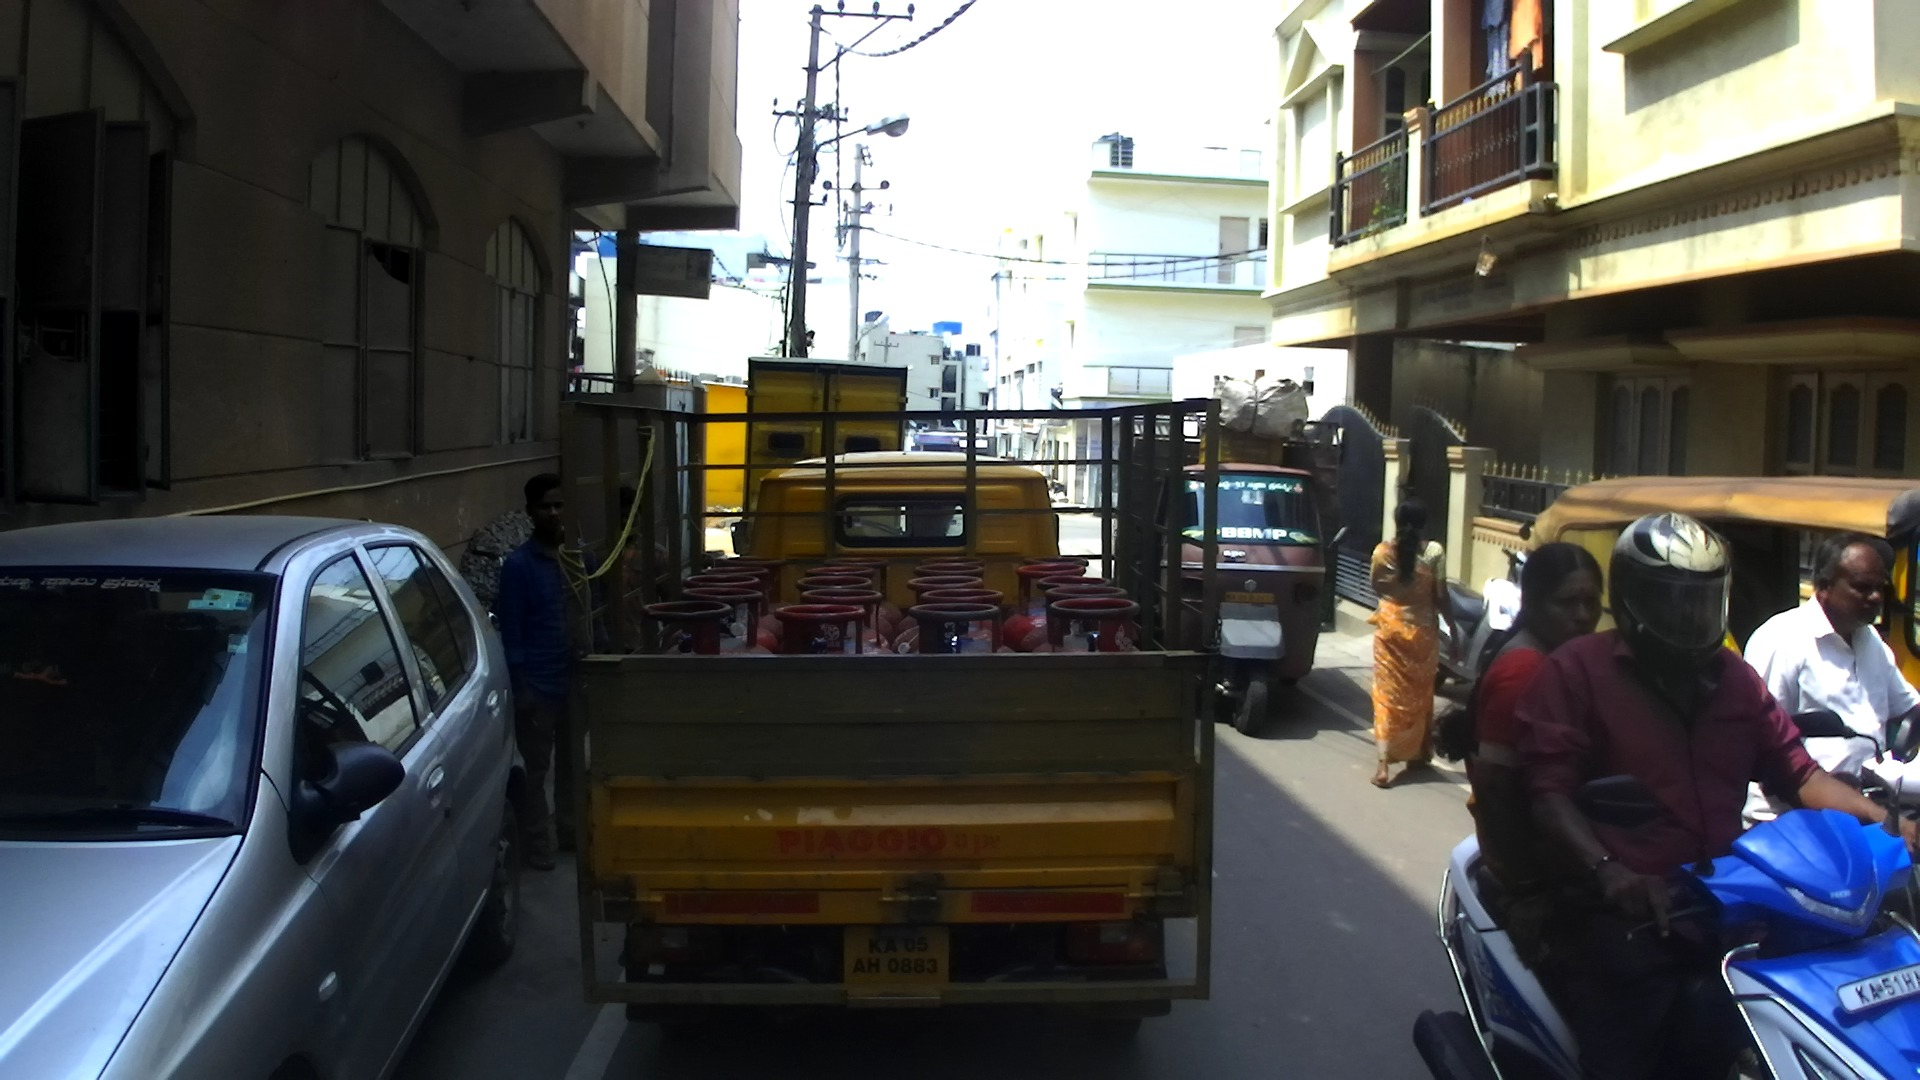autorickshaw: (557, 394, 1219, 1056), (1532, 470, 1918, 814), (1116, 380, 1343, 735)
car: (1, 512, 529, 1080)
motorcycle: (1410, 805, 1920, 1080), (1421, 546, 1539, 696), (1788, 703, 1912, 832), (471, 544, 553, 640)
person: (507, 470, 594, 868), (1373, 493, 1460, 786), (583, 485, 674, 660)
rider: (1549, 509, 1888, 1080), (1440, 549, 1669, 937), (1740, 530, 1919, 848)
truck: (744, 357, 910, 570)
vehicle fallback: (907, 432, 956, 459), (953, 432, 994, 457)
